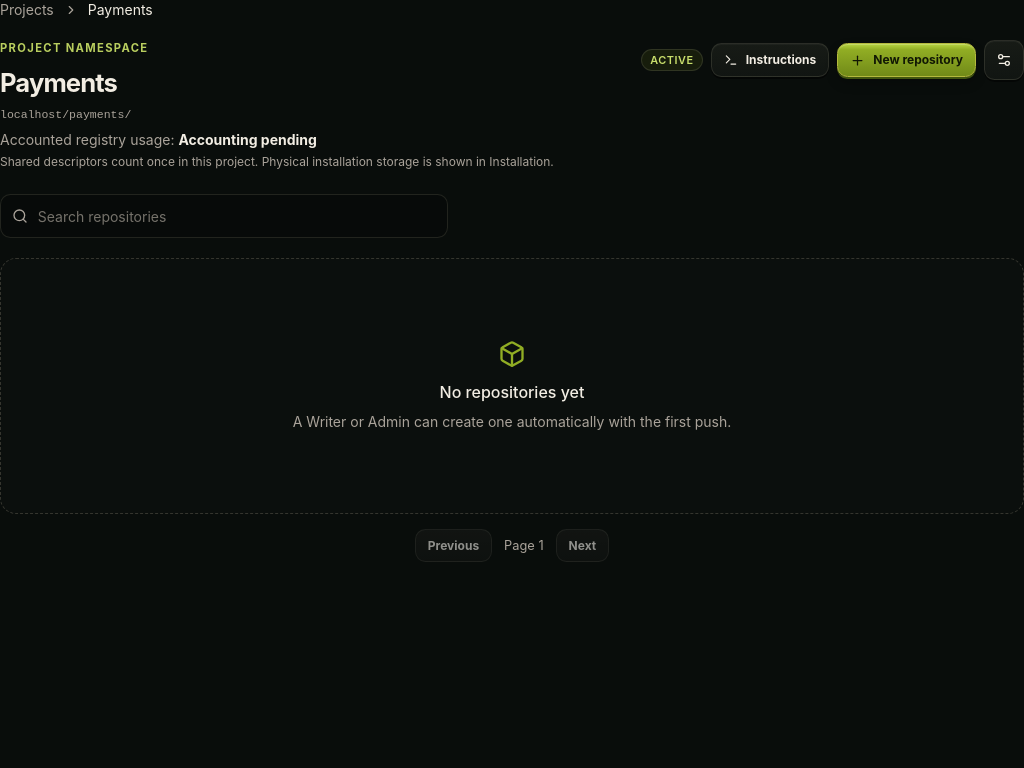
Test case: ProjectPage membership management › shows API errors in the member dialog
This screenshot has width=1024, height=768.
Click the button named "Project settings": point(1004, 60) [984, 40, 1023, 80]
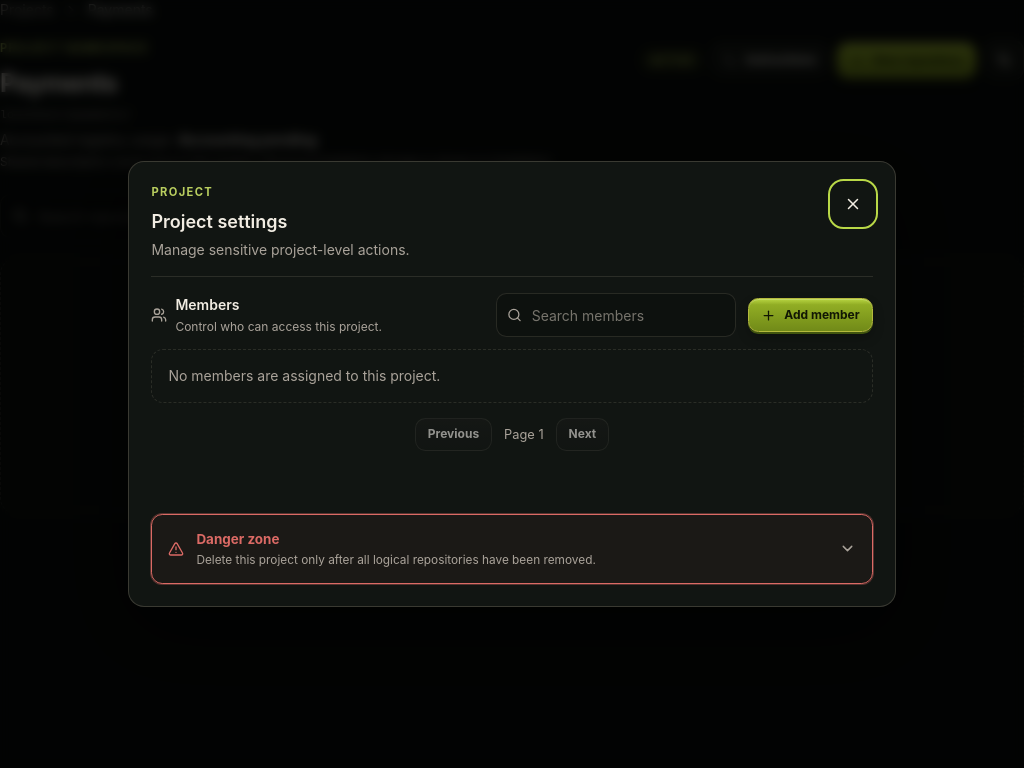
Click the button "Add member": point(810, 315) [748, 298, 873, 332]
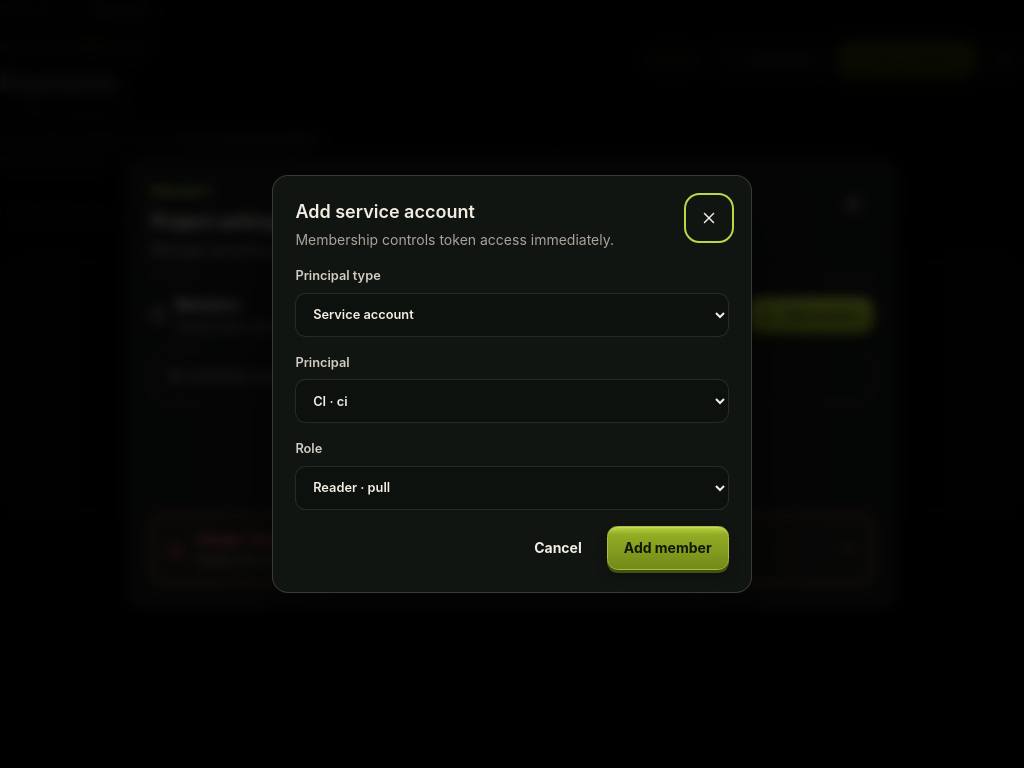
Select "CI · ci" in the dropdown labelled "Principal": point(512, 401) [295, 379, 729, 423]
Submit the form, box [272, 175, 752, 593]
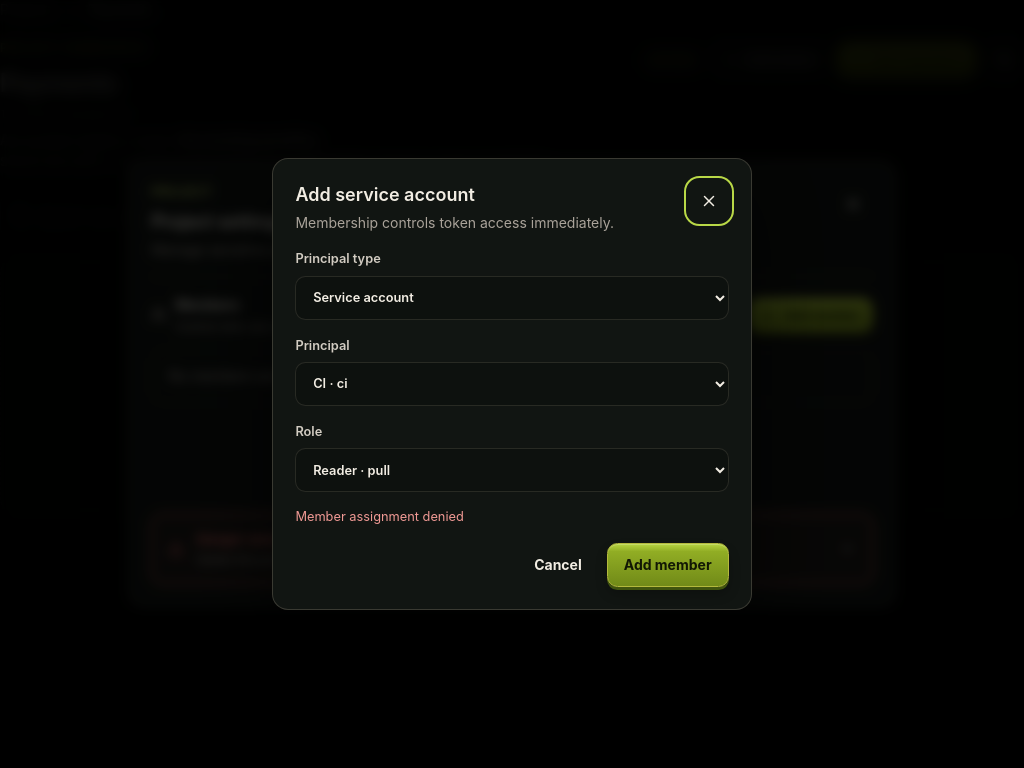
Now the message "Member assignment denied" is shown, box [295, 509, 464, 524]
